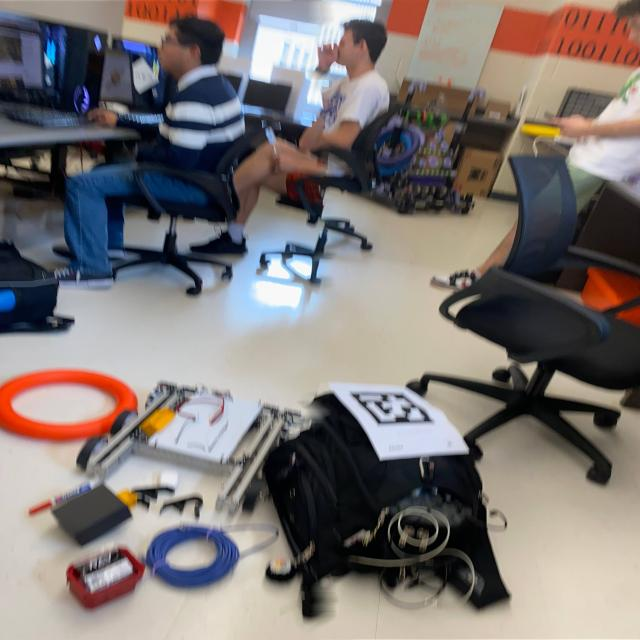yellow-specimen: (140, 408, 175, 437), (117, 490, 138, 512)
